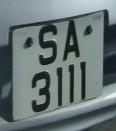1: (52, 63, 68, 112), (75, 58, 91, 106), (62, 61, 78, 109)
3: (26, 65, 55, 117)
A: (59, 17, 83, 63)
S: (35, 21, 60, 68)
